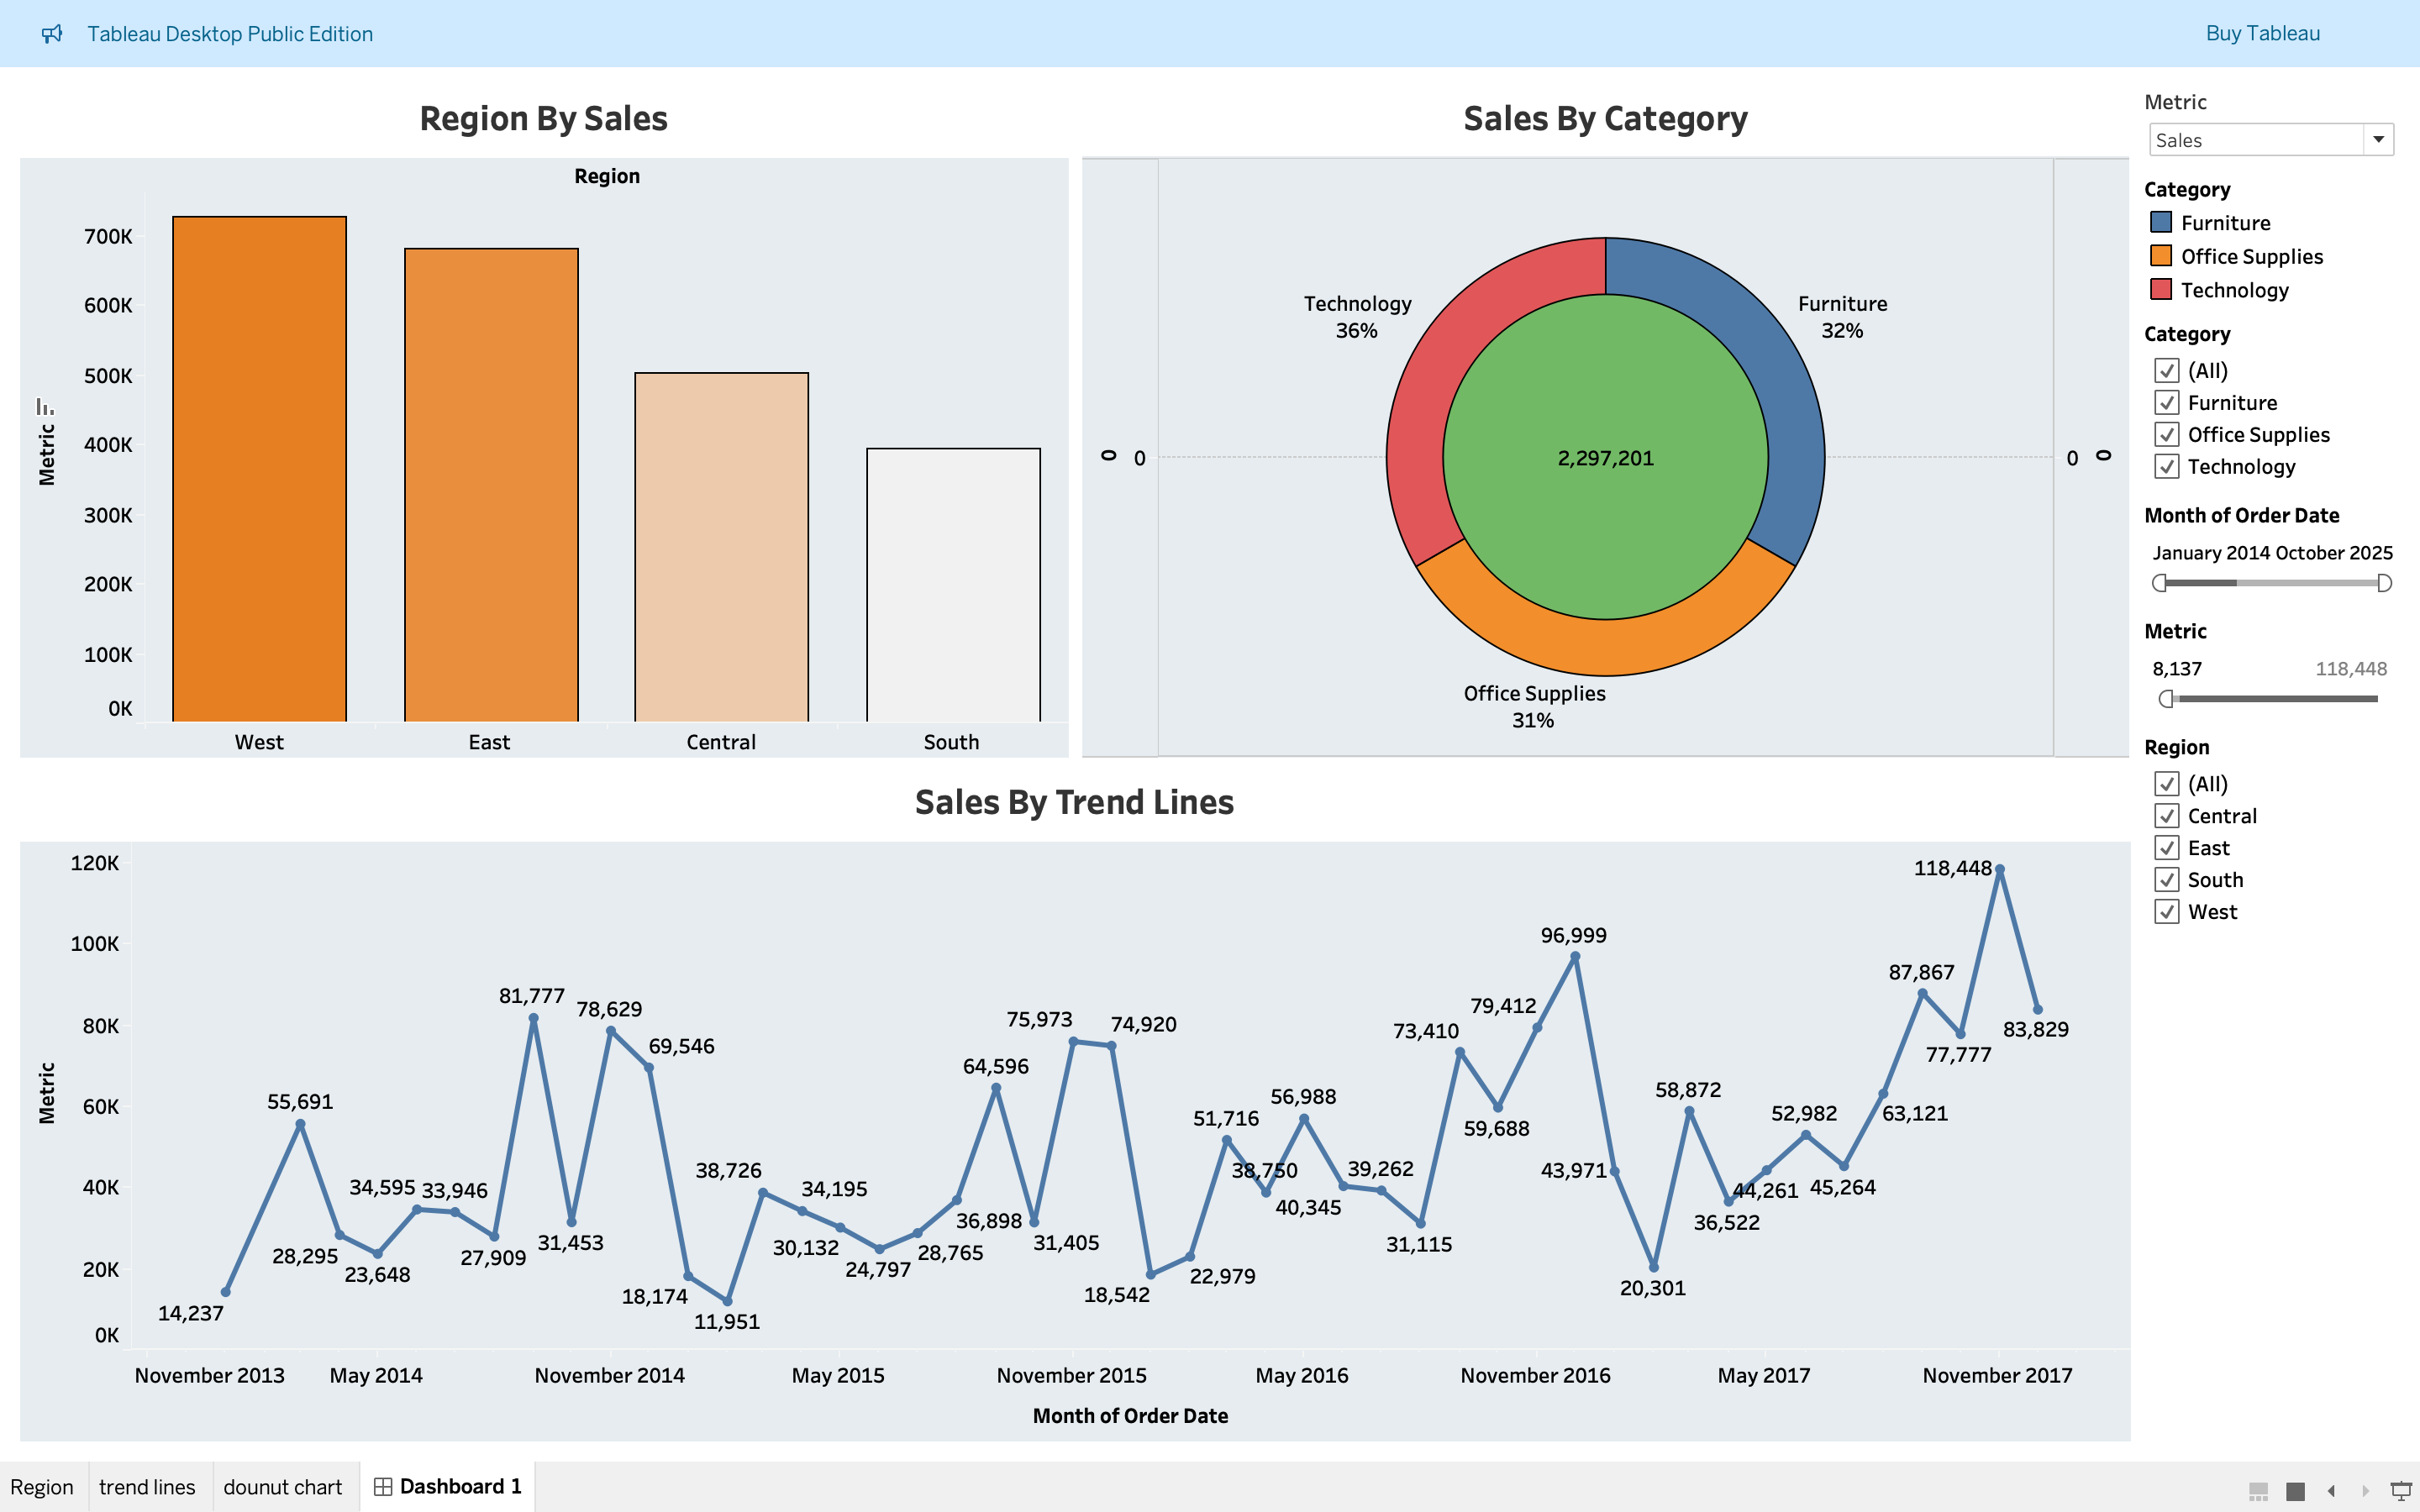

The dashboard page shown, as its layout file describes it:
{"tool":"tableau","page":{"name":"Dashboard 1","canvas":[1000,1000],"units":"permille","ordinal":0},"visuals":[{"type":"worksheet","title":"Region","mark":"Automatic","rows":["Calculation_1397241844552208384"],"cols":["Region"],"box":[4.8,10,446.8,490]},{"type":"worksheet","title":"dounut chart","mark":"Pie","rows":["Calculation_1397241844555145226","Calculation_1397241844555161612"],"box":[451.6,10,446.9,490]},{"type":"parameter","param":"[Parameters].[Parameter 1]","box":[898.5,10,96.7,69.9]},{"type":"legend","title":"dounut chart","param":"[federated.1ec7tr30fbf4b8121r5go07vqqtp].[none:Category:nk]","box":[898.5,79.9,96.7,116.1]},{"type":"filter","title":"dounut chart","param":"[federated.1ec7tr30fbf4b8121r5go07vqqtp].[none:Category:nk]","box":[898.5,196,96.7,159.8]},{"type":"filter","title":"trend lines","param":"[federated.1ec7tr30fbf4b8121r5go07vqqtp].[tmn:Order Date:qk]","box":[898.5,355.8,96.7,91.1]},{"type":"filter","title":"trend lines","param":"[federated.1ec7tr30fbf4b8121r5go07vqqtp].[sum:Calculation_1397241844552208384:qk","box":[898.5,447,96.7,91.1]},{"type":"worksheet","title":"trend lines","mark":"Automatic","rows":["Calculation_1397241844552208384"],"cols":["Order Date"],"box":[4.8,500,893.7,490]},{"type":"filter","title":"Region","param":"[federated.1ec7tr30fbf4b8121r5go07vqqtp].[none:Region:nk]","box":[898.5,538.1,96.7,188.5]}]}

Visuals, with their boxes on the dashboard's canvas, which has no fixed pixel size, in thousandths of its width and height (x1, y1, x2, y2). These are canvas units, not pixel positions in the 2420x1512 screenshot, which may show the page scaled, cropped or inside an application window:
"Region" worksheet: <region>5, 10, 452, 500</region>
"dounut chart" worksheet (Pie marks): <region>452, 10, 898, 500</region>
parameter: <region>898, 10, 995, 80</region>
"dounut chart" legend: <region>898, 80, 995, 196</region>
"dounut chart" filter: <region>898, 196, 995, 356</region>
"trend lines" filter: <region>898, 356, 995, 447</region>
"trend lines" filter: <region>898, 447, 995, 538</region>
"trend lines" worksheet: <region>5, 500, 898, 990</region>
"Region" filter: <region>898, 538, 995, 727</region>
